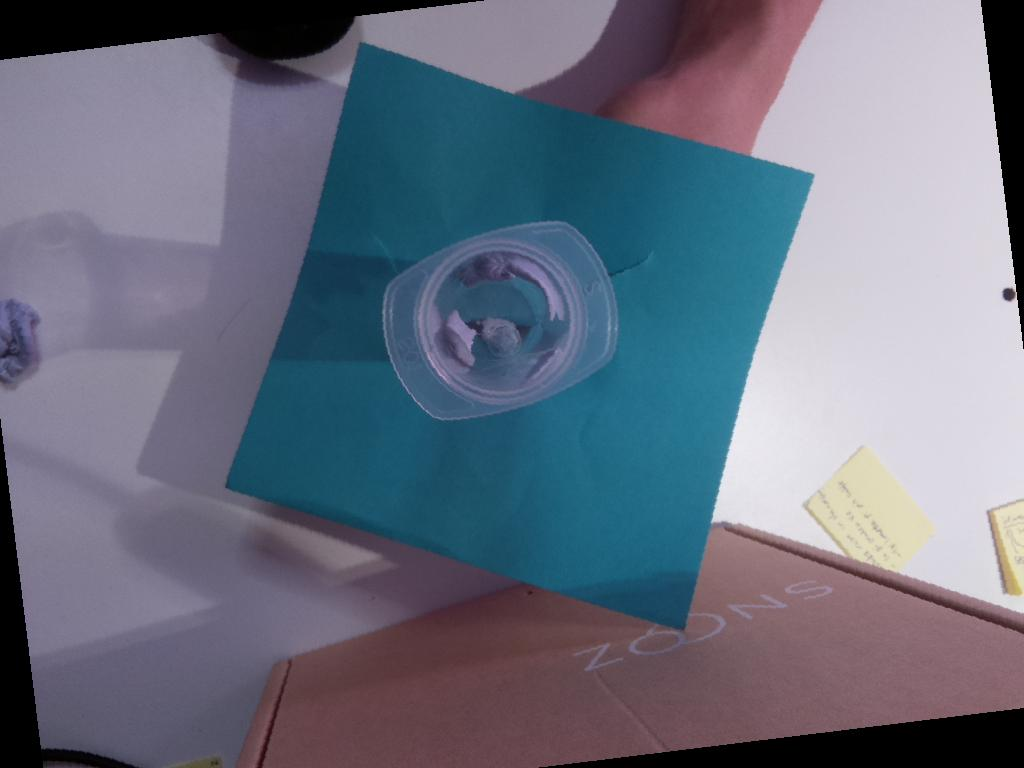dirty: (379, 218, 620, 421)
